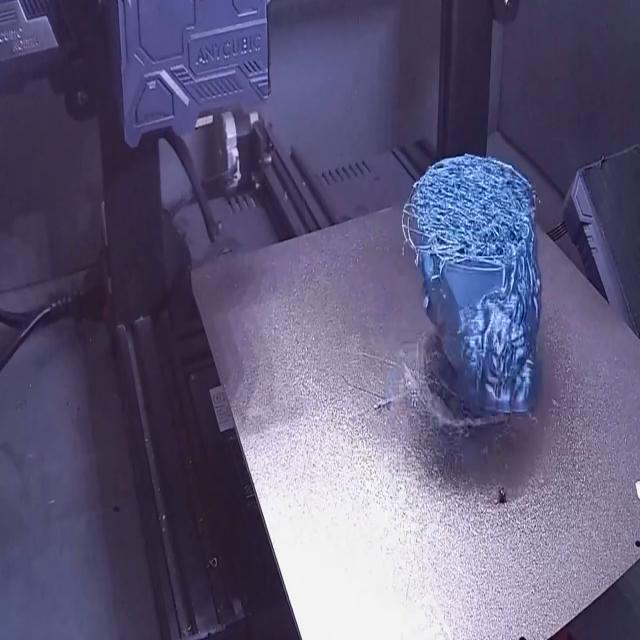spaghetti: (401, 154, 538, 295)
